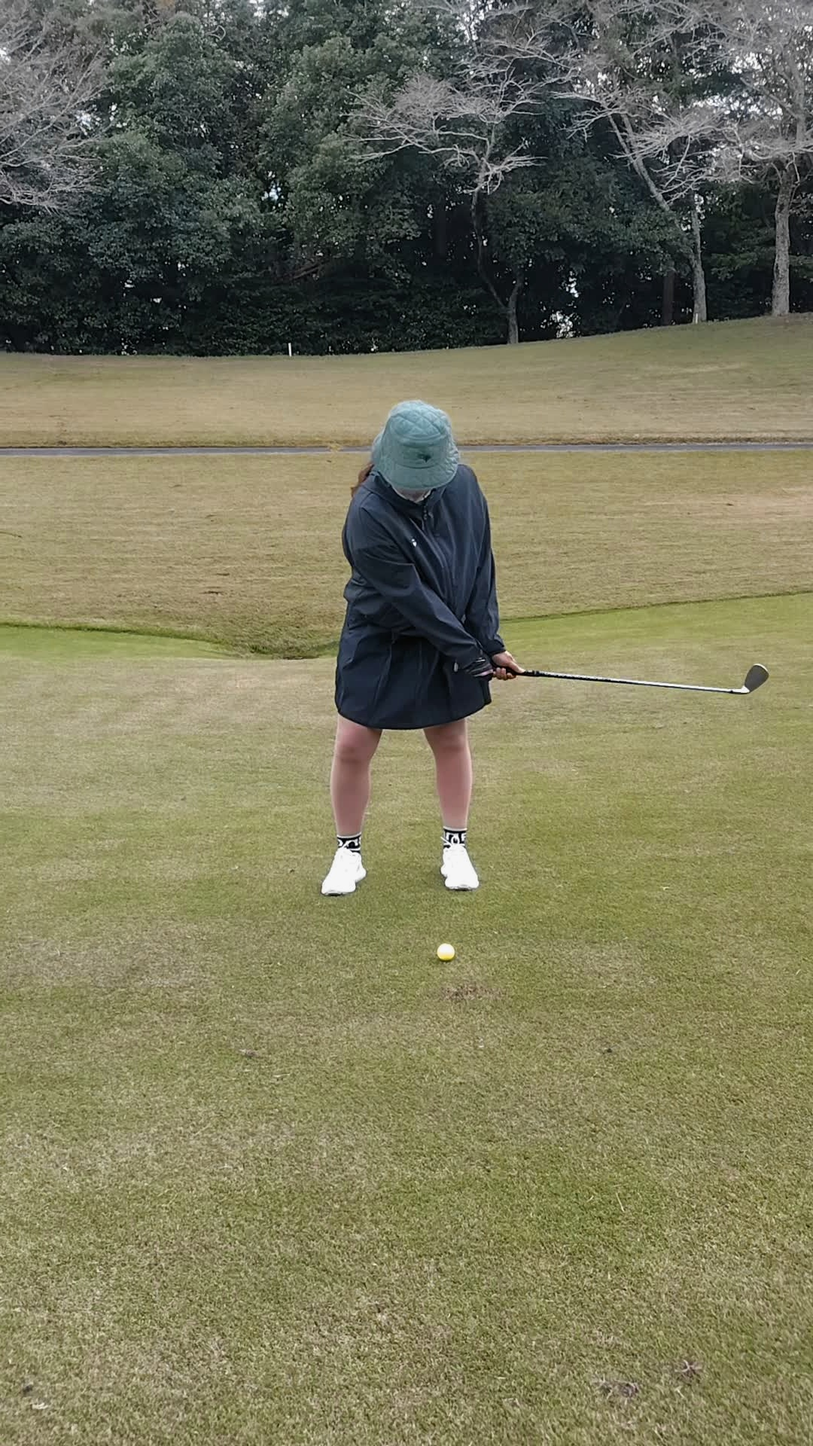clubhead: (701, 603, 803, 754)
